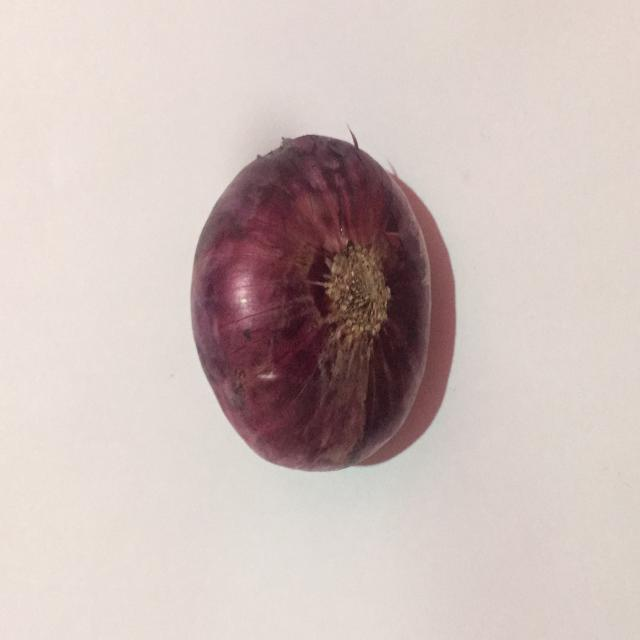onion: (188, 131, 434, 473)
